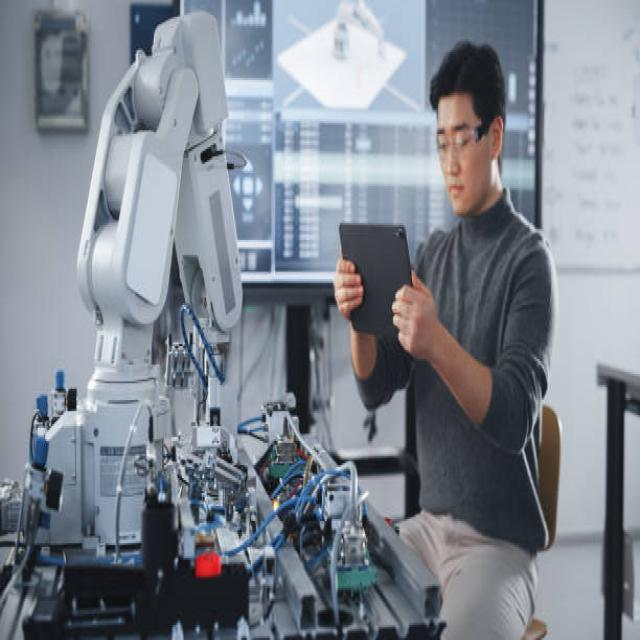Robotic-arm: (71, 3, 248, 555)
